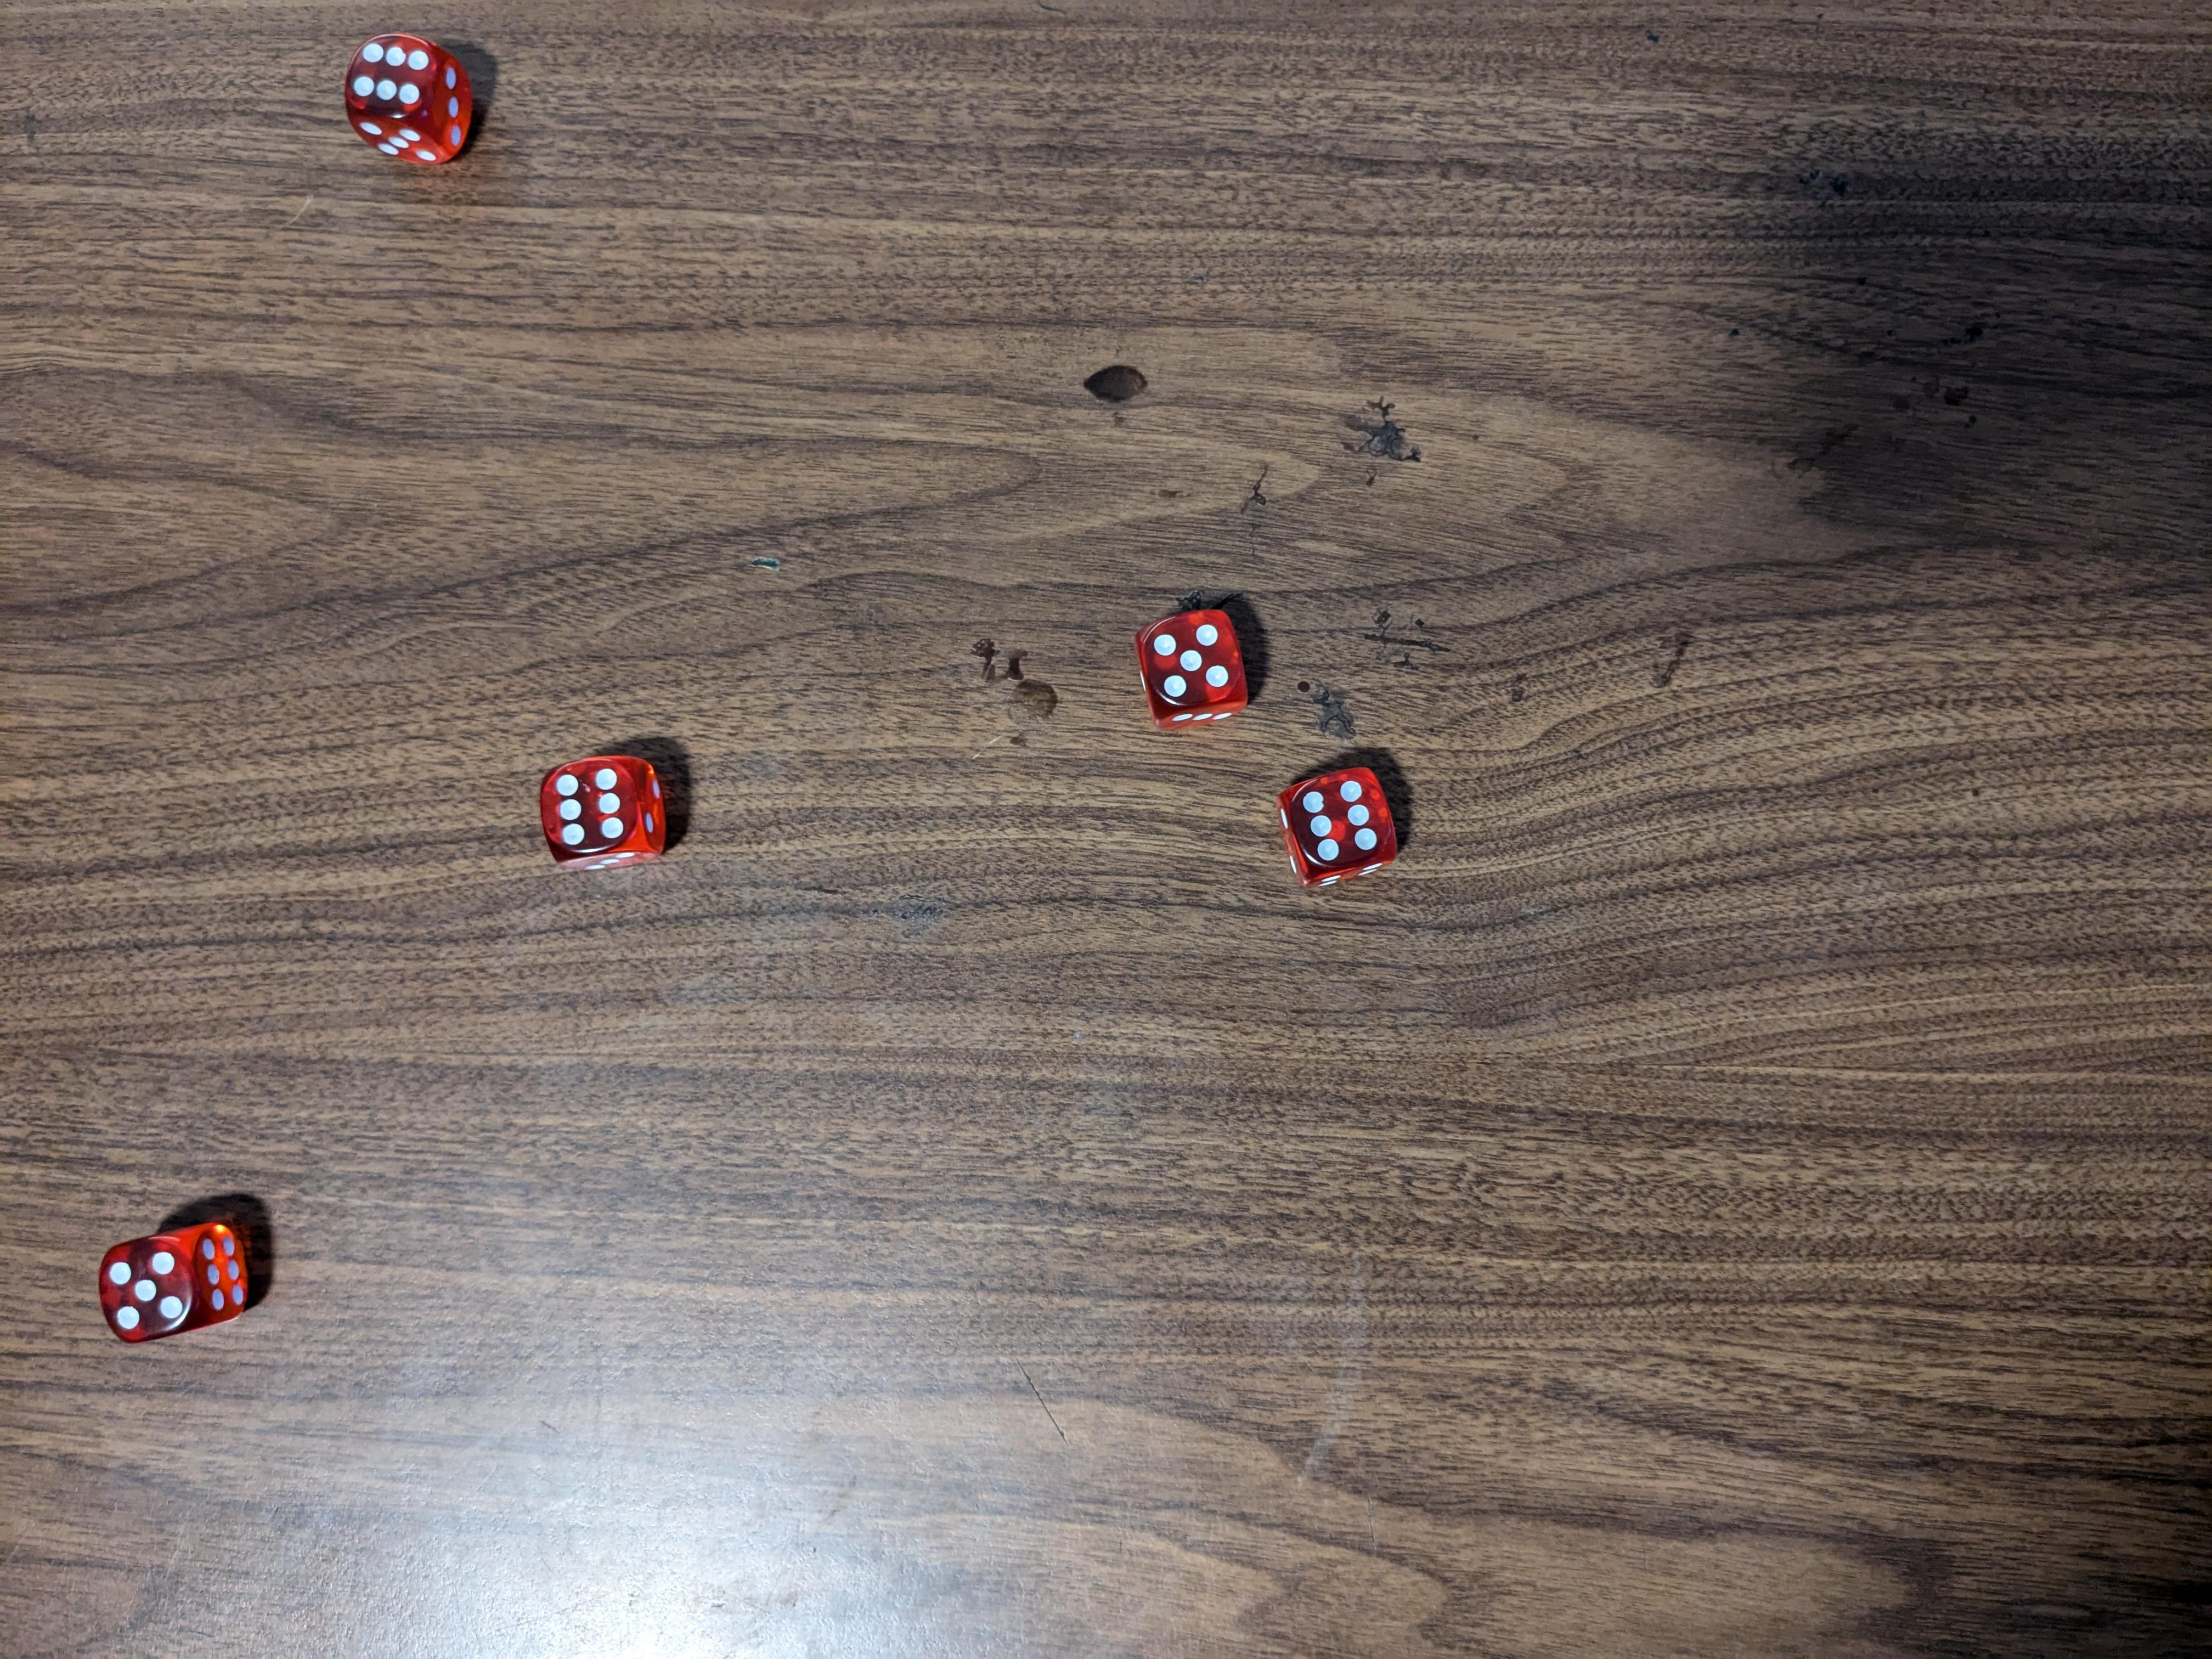five: (101, 1216, 253, 1333), (1136, 606, 1251, 735)
six: (343, 24, 479, 169), (538, 749, 669, 866), (1275, 767, 1397, 885)
